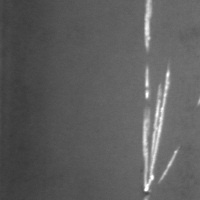scratches: (139, 66, 181, 199), (140, 0, 159, 51)
